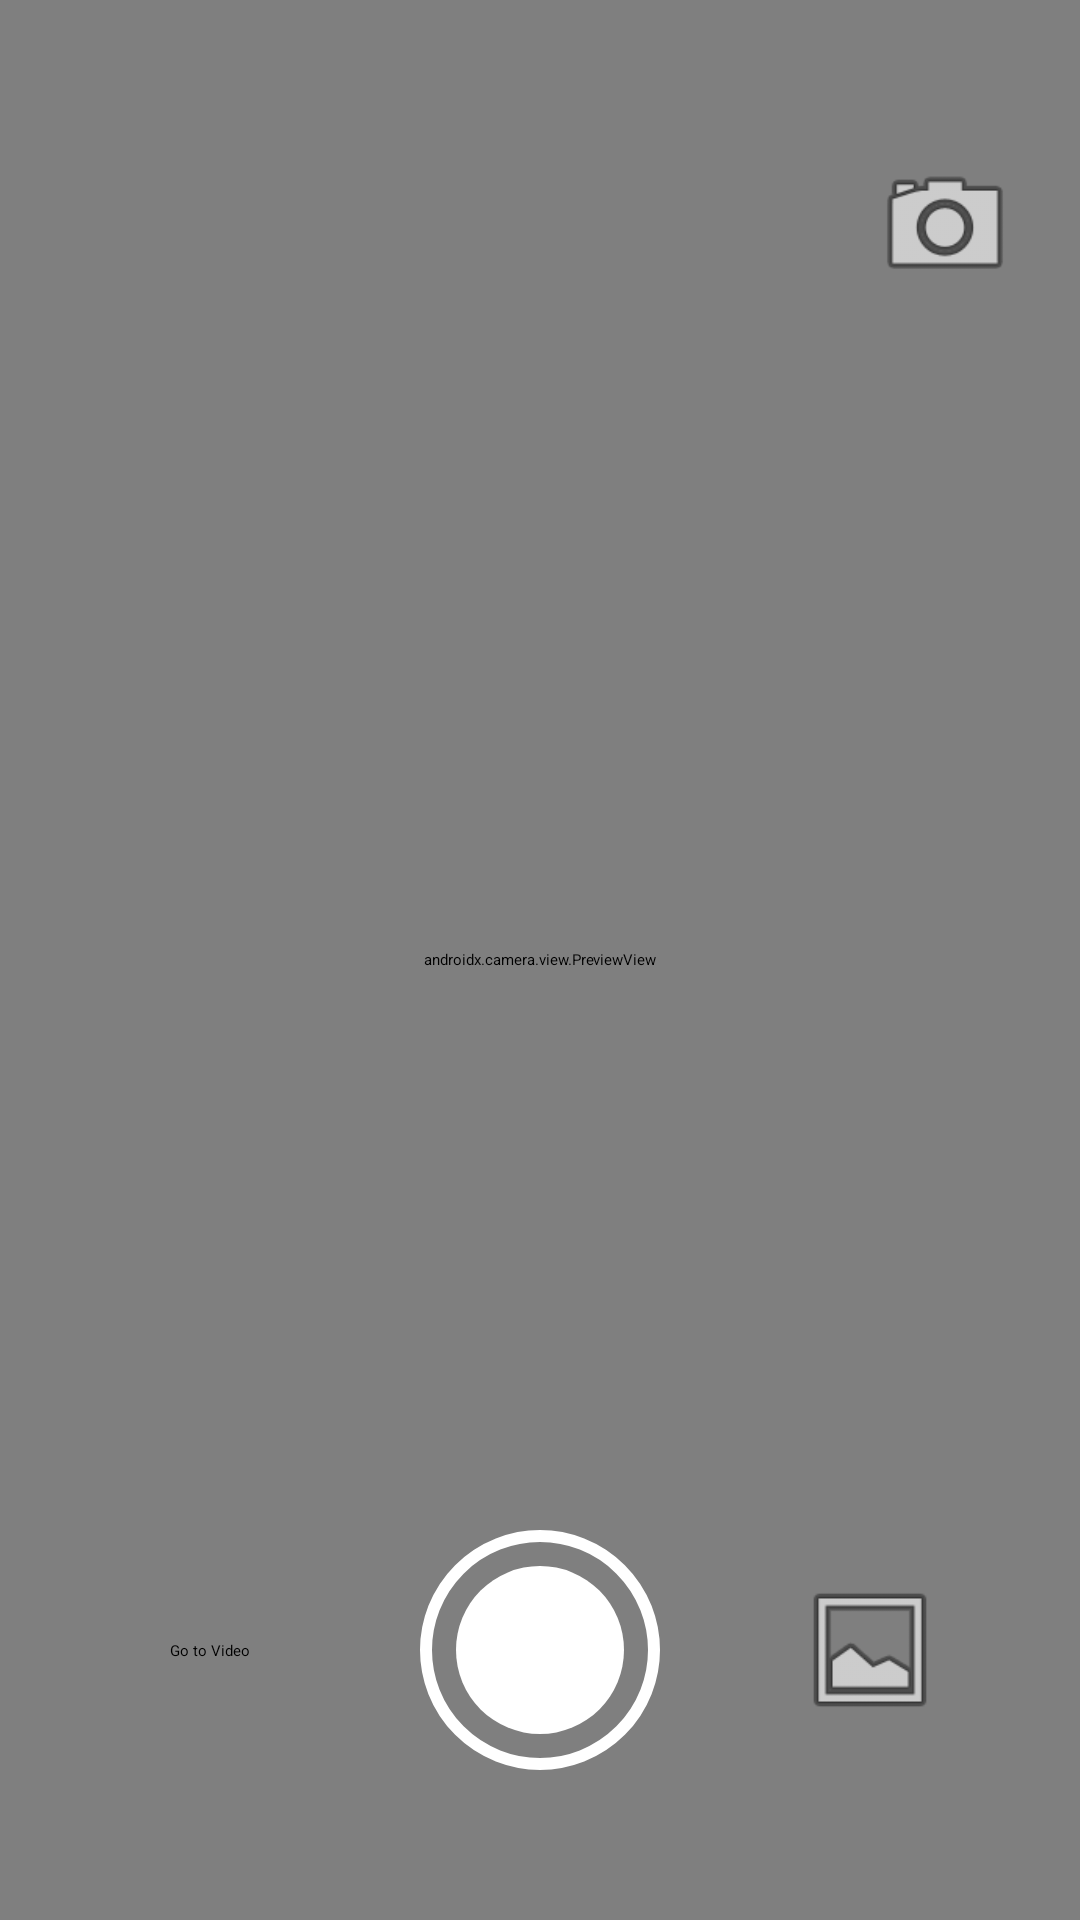

Icons on this 1080 × 1920 Android screen, each with its box as (x1, y1, x2, y2):
Capture Button: (420, 1530, 660, 1770)
Gallery: (814, 1594, 926, 1706)
